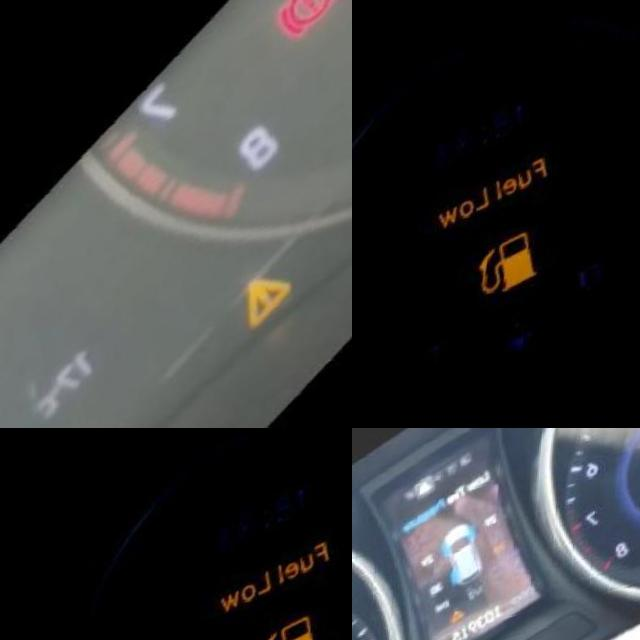Low fuel level: (472, 227, 564, 332), (253, 611, 345, 640)
